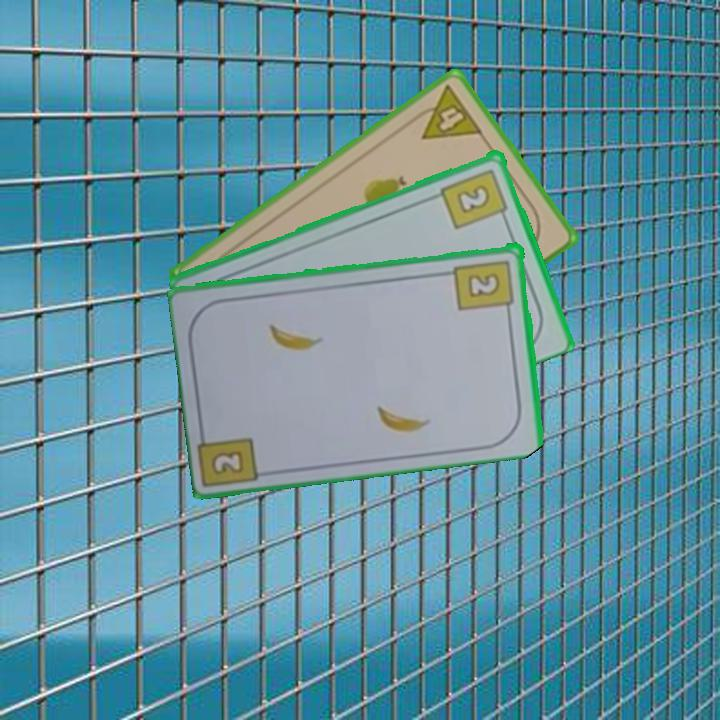2b: (437, 165, 511, 231), (451, 256, 517, 317), (207, 446, 247, 478)
4p: (406, 81, 486, 143)
